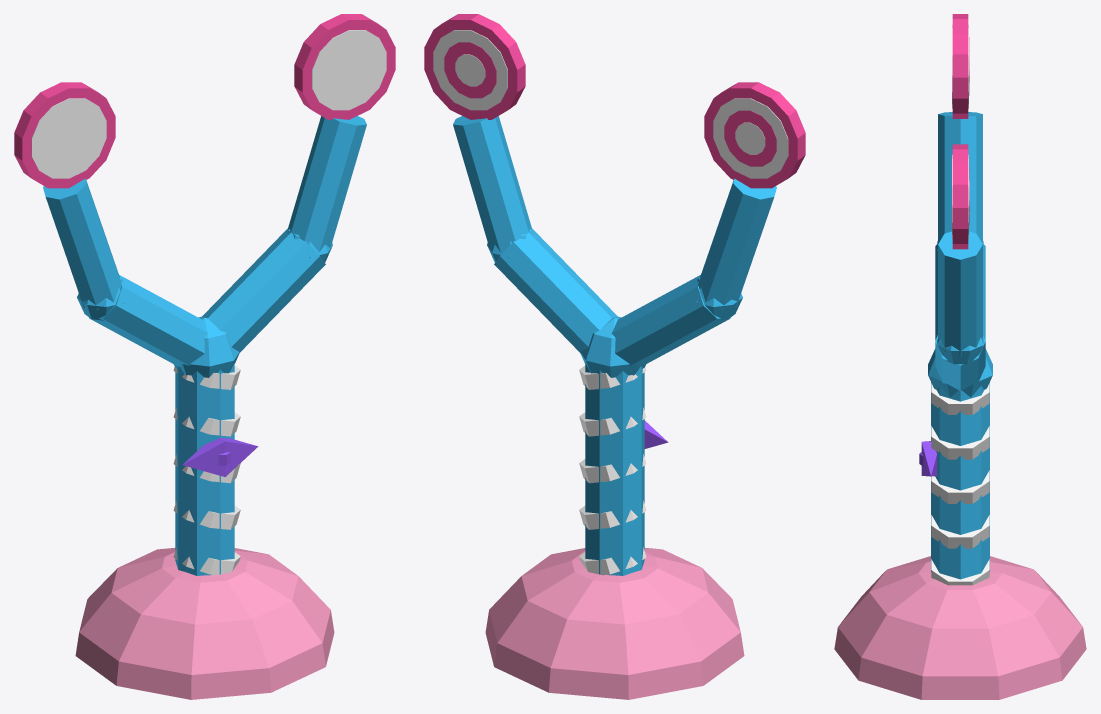
Rendered from slingshot_3.fbx.
3 views of the same model, side by side, from view 1: azimuth 30°, elevation 25°; view 2: azimuth 150°, elevation 25°; view 3: azimuth 270°, elevation 25° (orthographic). The views are drawn at different scales.
Visible parts, largest first — view 1: Frame, Base, Swirl, Tips, Stripes, Bow; view 2: Frame, Base, Swirl, Tips, Stripes; view 3: Base, Frame, Stripes, Tips, Bow, Swirl.
Part boxes in pixels (x1=…): Frame: x1=43, y1=116, x2=366, y2=575; Base: x1=75, y1=548, x2=334, y2=699; Swirl: x1=31, y1=30, x2=386, y2=178; Tips: x1=14, y1=14, x2=395, y2=188; Stripes: x1=173, y1=365, x2=240, y2=575; Bow: x1=182, y1=438, x2=258, y2=476; Frame: x1=453, y1=116, x2=776, y2=575; Base: x1=485, y1=548, x2=744, y2=699; Swirl: x1=433, y1=30, x2=788, y2=178; Tips: x1=424, y1=14, x2=805, y2=188; Stripes: x1=579, y1=365, x2=646, y2=575; Base: x1=834, y1=556, x2=1086, y2=699; Frame: x1=928, y1=112, x2=992, y2=579; Stripes: x1=931, y1=383, x2=989, y2=585; Tips: x1=952, y1=14, x2=968, y2=249; Bow: x1=919, y1=441, x2=937, y2=476; Swirl: x1=952, y1=24, x2=969, y2=238.
Size of the model in its own units: 5.86 by 8.9 by 3.6.
